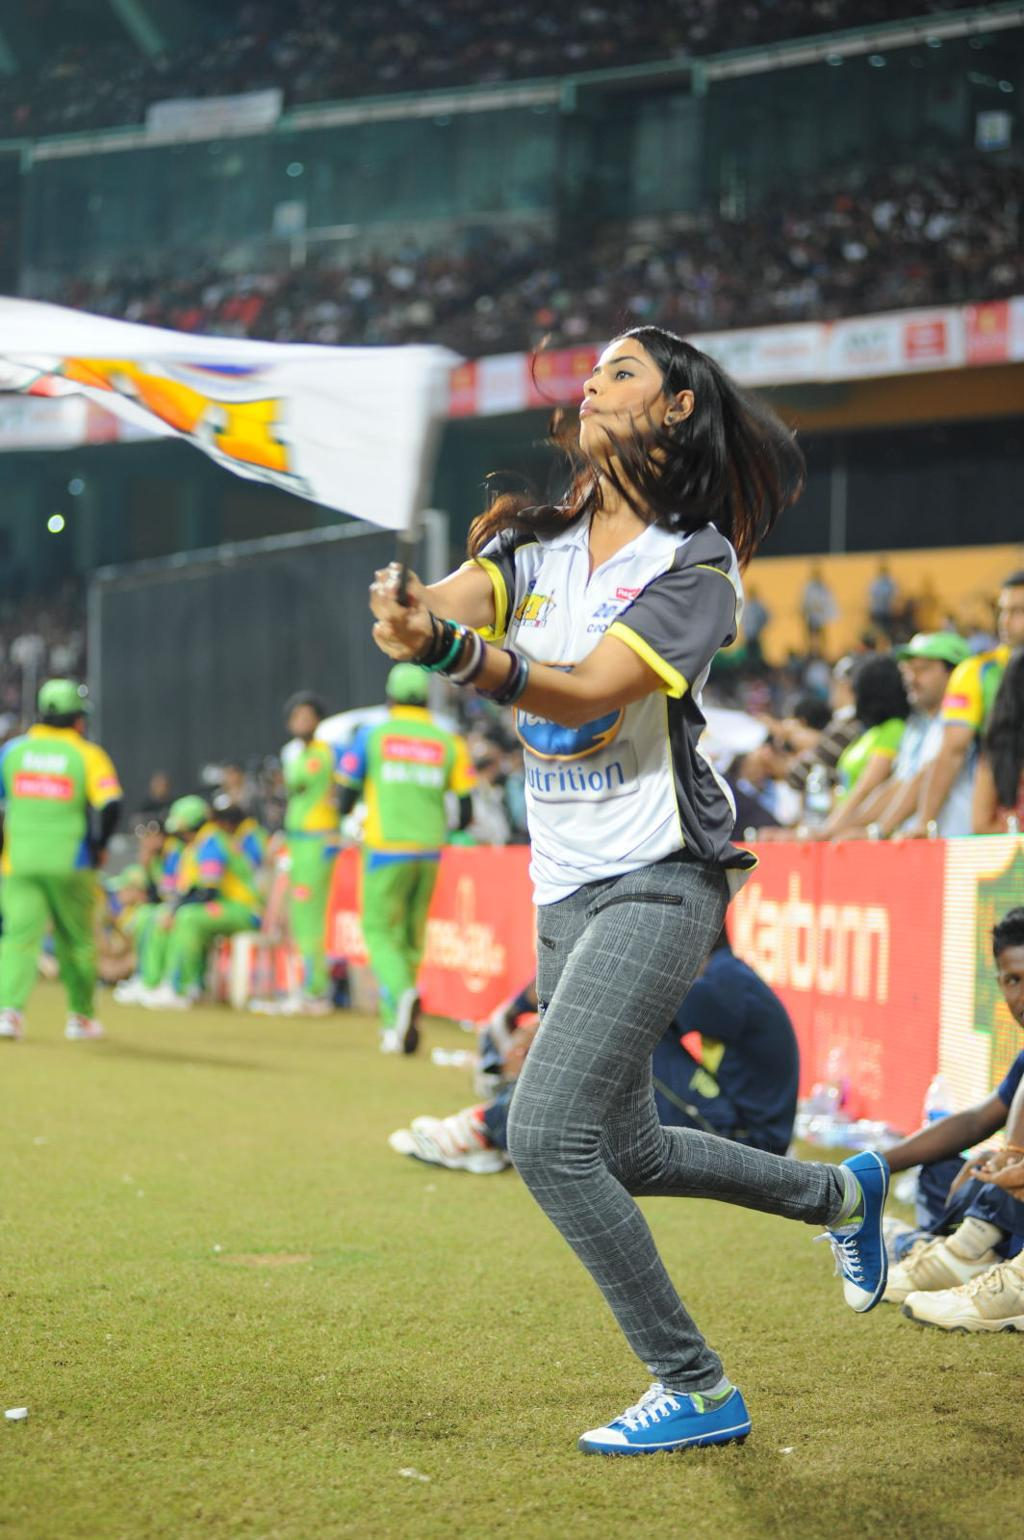face: (576, 341, 666, 446)
